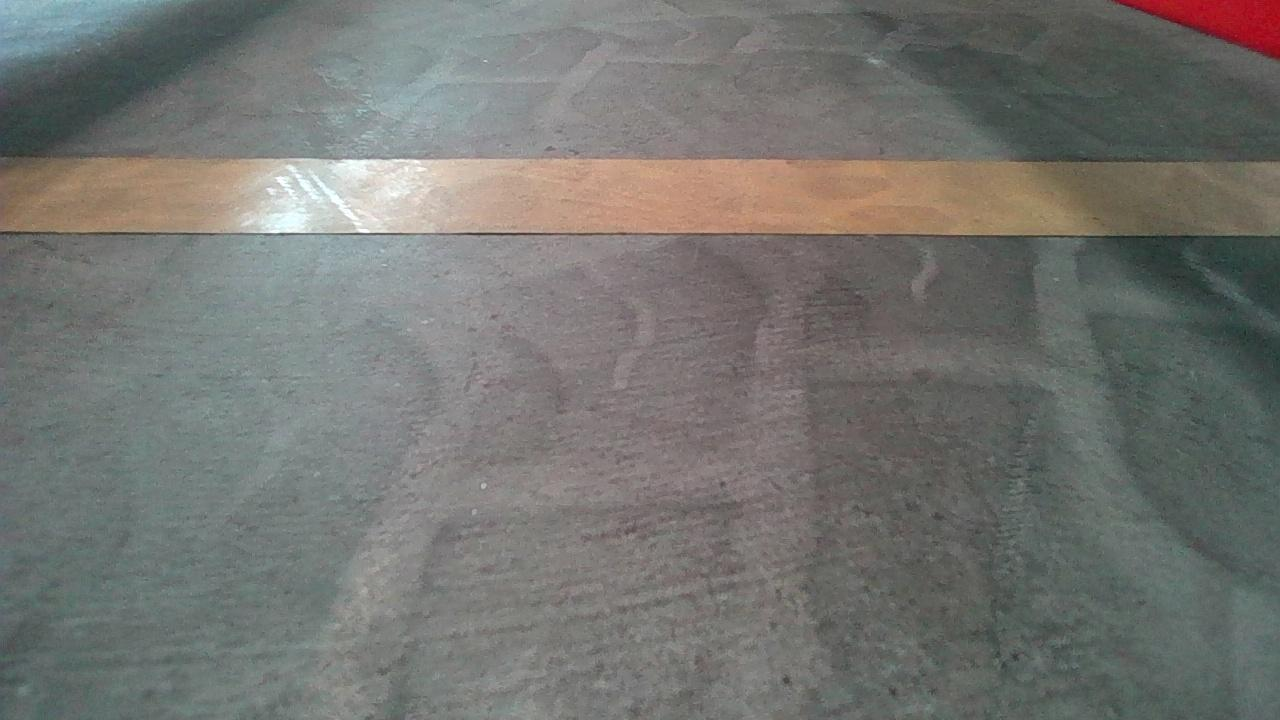yellow_line: (1, 149, 1277, 239)
